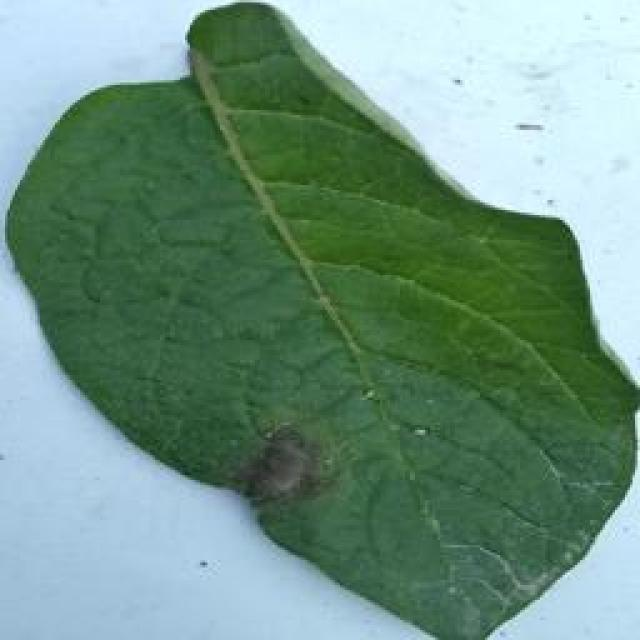Potato_Late_Blight: (6, 6, 622, 636)
